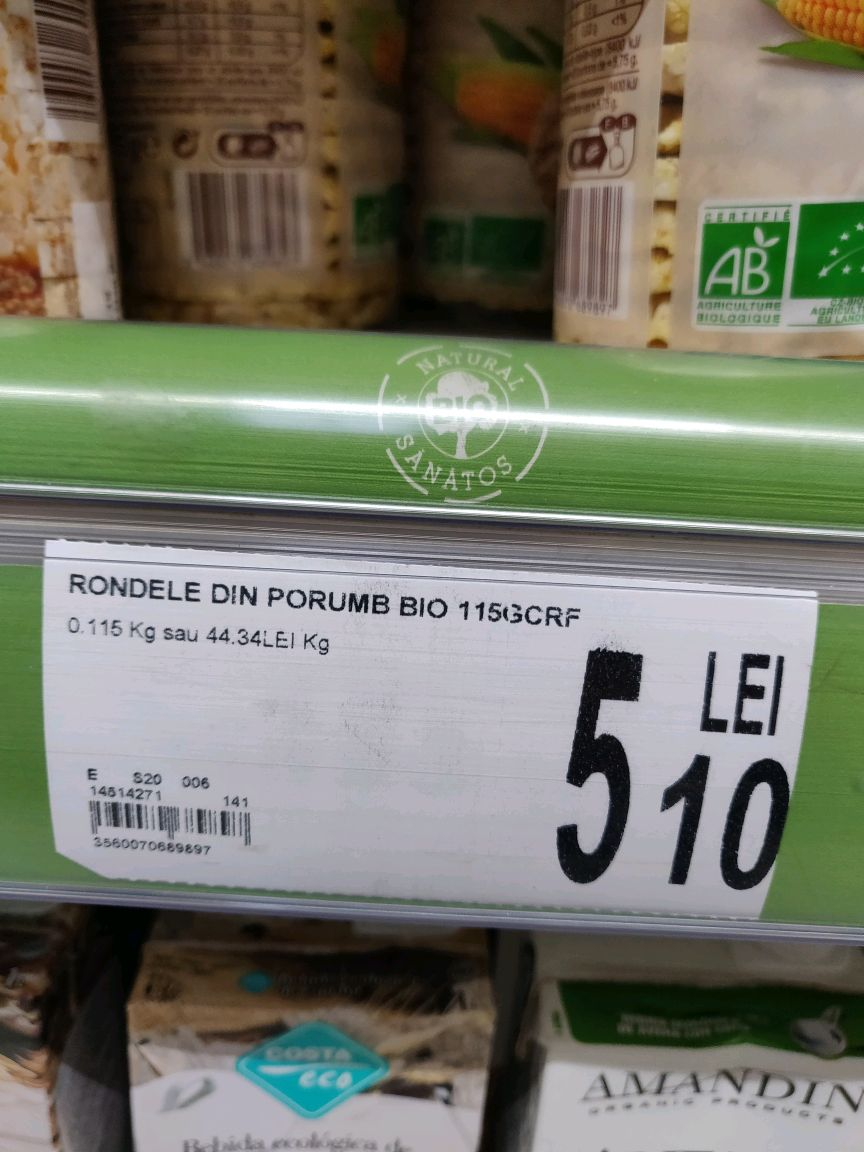price_bani: (656, 749, 805, 904)
price_lei: (523, 644, 648, 898)
price_tag: (30, 534, 831, 950)
product_id: (86, 835, 219, 865)
product_name: (49, 563, 591, 634)
